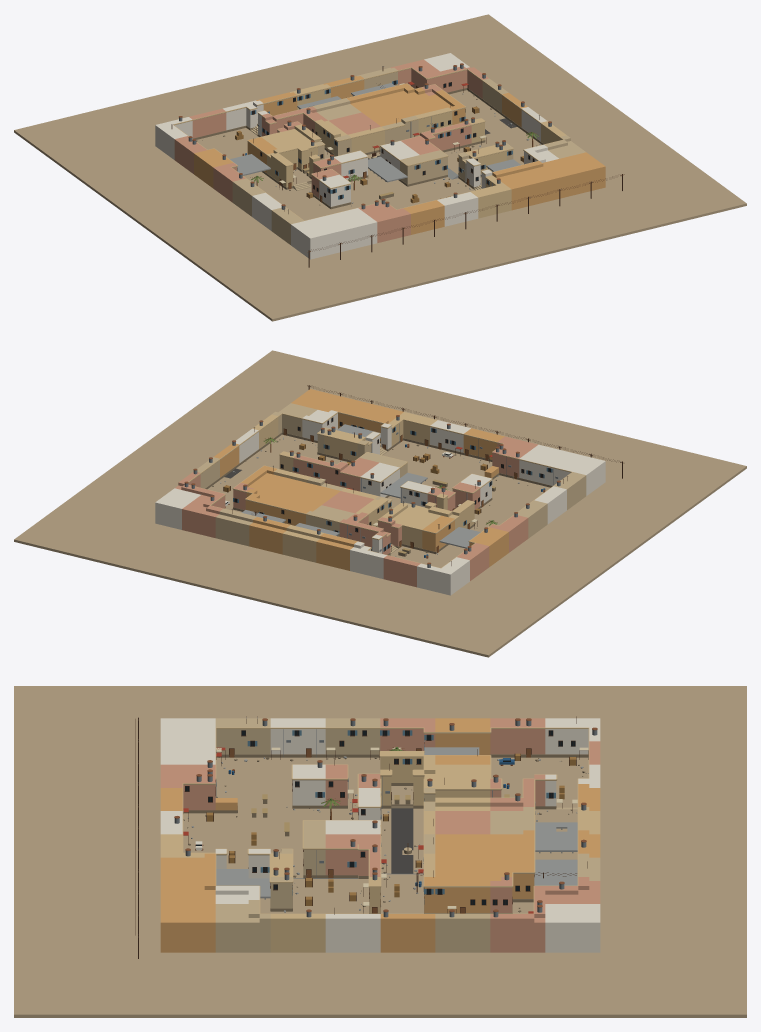
File: sarob.glb
The picture shows the model from 3 angles, top to bottom: view 1: azimuth 30°, elevation 25°; view 2: azimuth 150°, elevation 25°; view 3: azimuth 270°, elevation 25°; orthographic projection. The views are drawn at different scales.
Visible parts, largest first — view 1: world_stone_floor, world_plaster_ochre, world_plaster_white, world_plaster_rose, world_sand_wall, world_stone_wall, decor_sand_wall, world_concrete, decor_stone_base, decor_wood_dark, decor_metal, decor_window_dark; view 2: world_stone_floor, world_plaster_white, world_plaster_ochre, world_plaster_rose, world_sand_wall, world_stone_wall, decor_sand_wall, world_concrete, decor_stone_base, decor_wood_dark, decor_metal, decor_window_dark; view 3: world_stone_floor, world_plaster_ochre, world_plaster_white, world_plaster_rose, world_stone_wall, world_sand_wall, decor_sand_wall, world_concrete, decor_stone_base, decor_wood_dark, decor_metal, decor_asphalt (+3 smaller).
Part boxes in pixels (x1,y1,x2,y2): world_stone_floor: [14, 14, 746, 321]; world_plaster_ochre: [194, 76, 605, 234]; world_plaster_white: [155, 53, 558, 259]; world_plaster_rose: [174, 59, 488, 242]; world_sand_wall: [261, 84, 566, 218]; world_stone_wall: [232, 68, 585, 244]; decor_sand_wall: [173, 67, 563, 220]; world_concrete: [230, 83, 520, 182]; decor_stone_base: [180, 72, 543, 209]; decor_wood_dark: [171, 66, 612, 251]; decor_metal: [173, 65, 561, 251]; decor_window_dark: [252, 81, 534, 198]; world_stone_floor: [14, 350, 746, 657]; world_plaster_white: [155, 410, 605, 595]; world_plaster_ochre: [214, 389, 508, 570]; world_plaster_rose: [175, 436, 537, 587]; world_sand_wall: [252, 412, 474, 562]; world_stone_wall: [197, 403, 586, 546]; decor_sand_wall: [188, 412, 572, 568]; world_concrete: [241, 424, 480, 548]; decor_stone_base: [205, 417, 552, 555]; decor_wood_dark: [223, 386, 622, 565]; decor_metal: [184, 386, 589, 567]; decor_window_dark: [225, 418, 550, 550]; world_stone_floor: [14, 686, 746, 1017]; world_plaster_ochre: [160, 718, 600, 952]; world_plaster_white: [160, 718, 600, 952]; world_plaster_rose: [160, 718, 600, 952]; world_stone_wall: [215, 718, 600, 952]; world_sand_wall: [160, 751, 600, 952]; decor_sand_wall: [182, 727, 589, 914]; world_concrete: [216, 747, 577, 898]; decor_stone_base: [183, 754, 588, 913]; decor_wood_dark: [135, 716, 588, 935]; decor_metal: [138, 717, 597, 917]; decor_asphalt: [391, 808, 413, 873].
Size of the model in its own units: 212 by 13.4 by 200.
